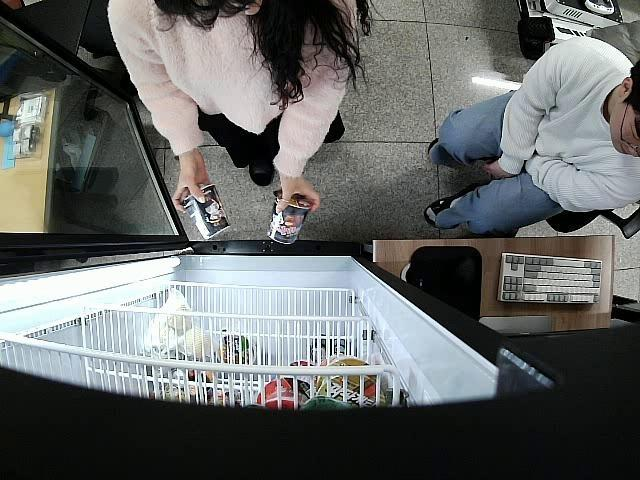08_buldak_S: (178, 184, 232, 241), (267, 190, 314, 245)
